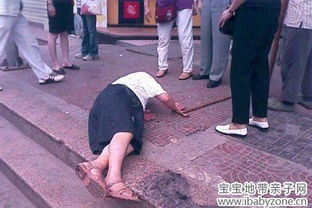falling: (73, 64, 196, 203)
